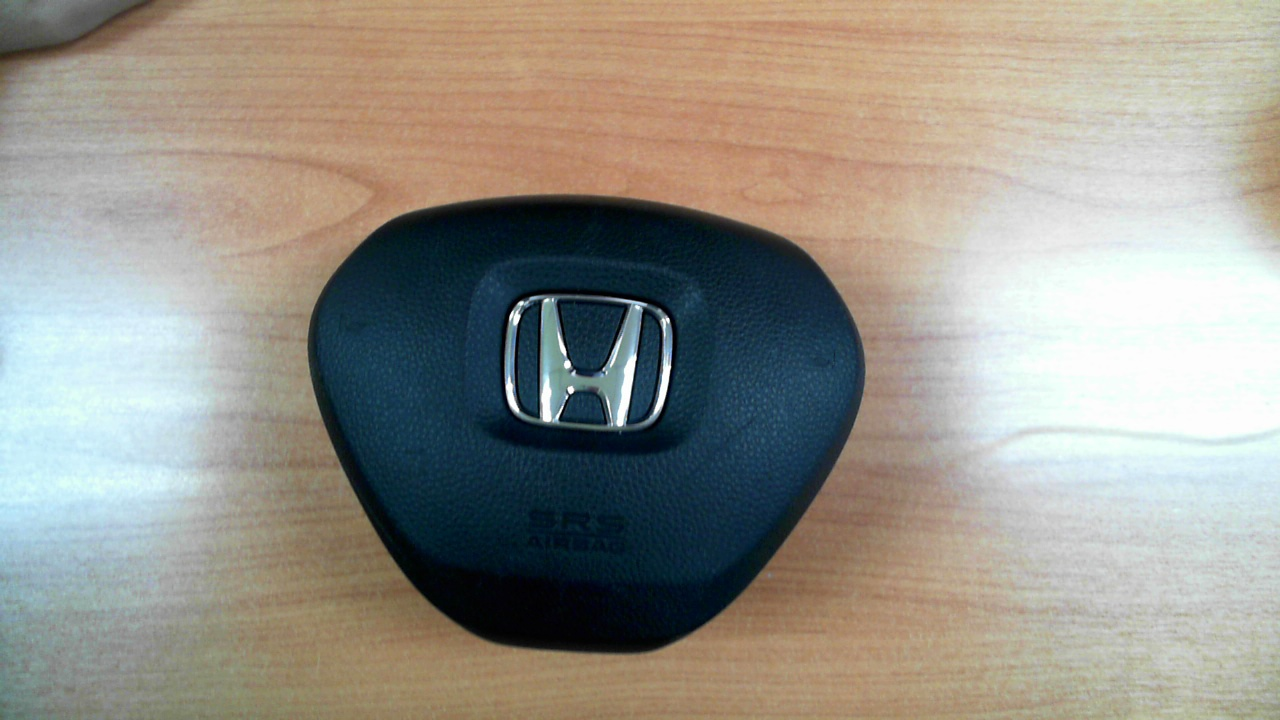Airbag: (306, 193, 867, 653)
Honda: (504, 293, 673, 428)
